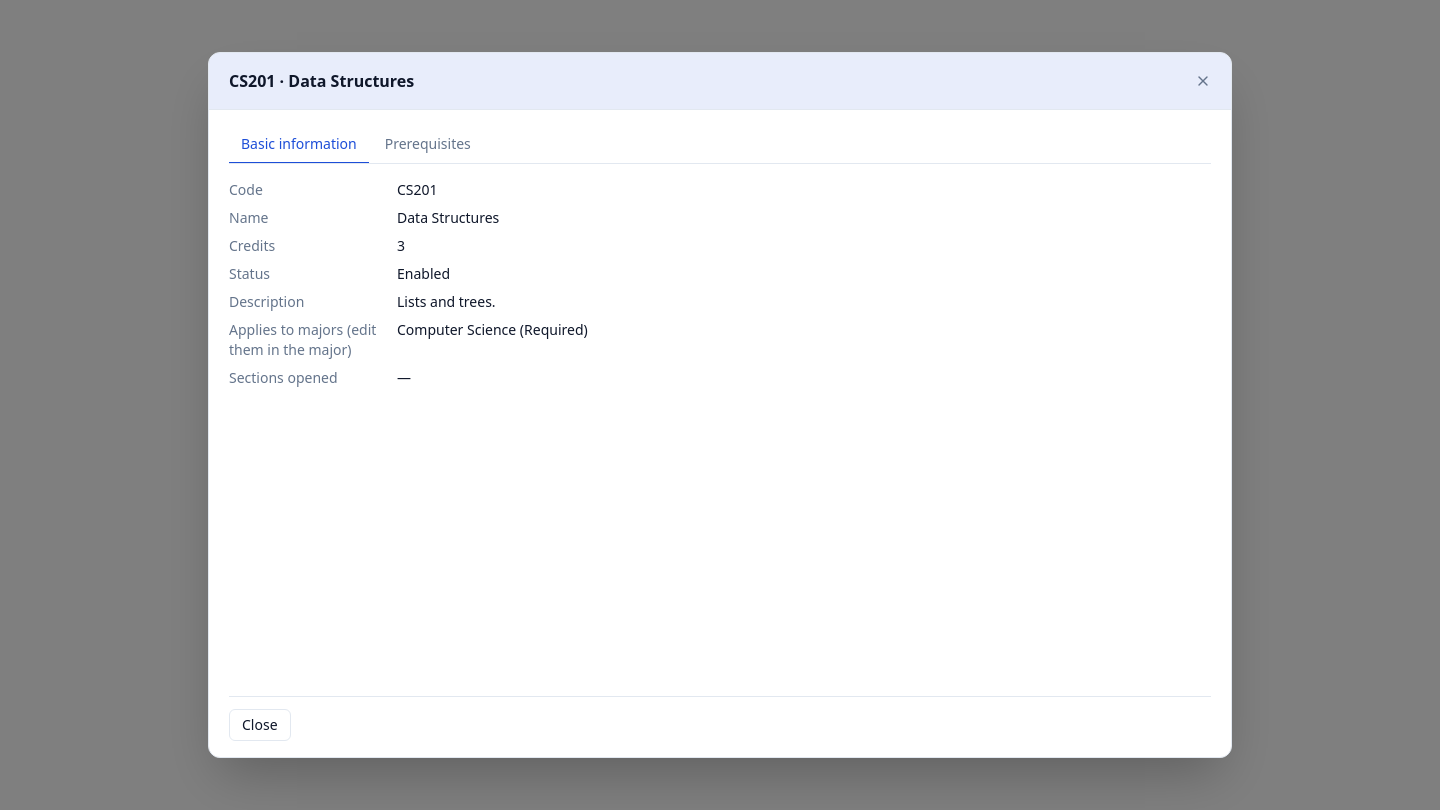
it: course dialog › details are read-only: labels only, no inputs or add/remove, prerequisites listed
The width and height of the screenshot is (1440, 810).
expect the text "Lists and trees." is shown: met, box left=397, top=292, right=496, bottom=311
Click the tab "Prerequisites".
click(428, 145)  # box left=373, top=126, right=483, bottom=164
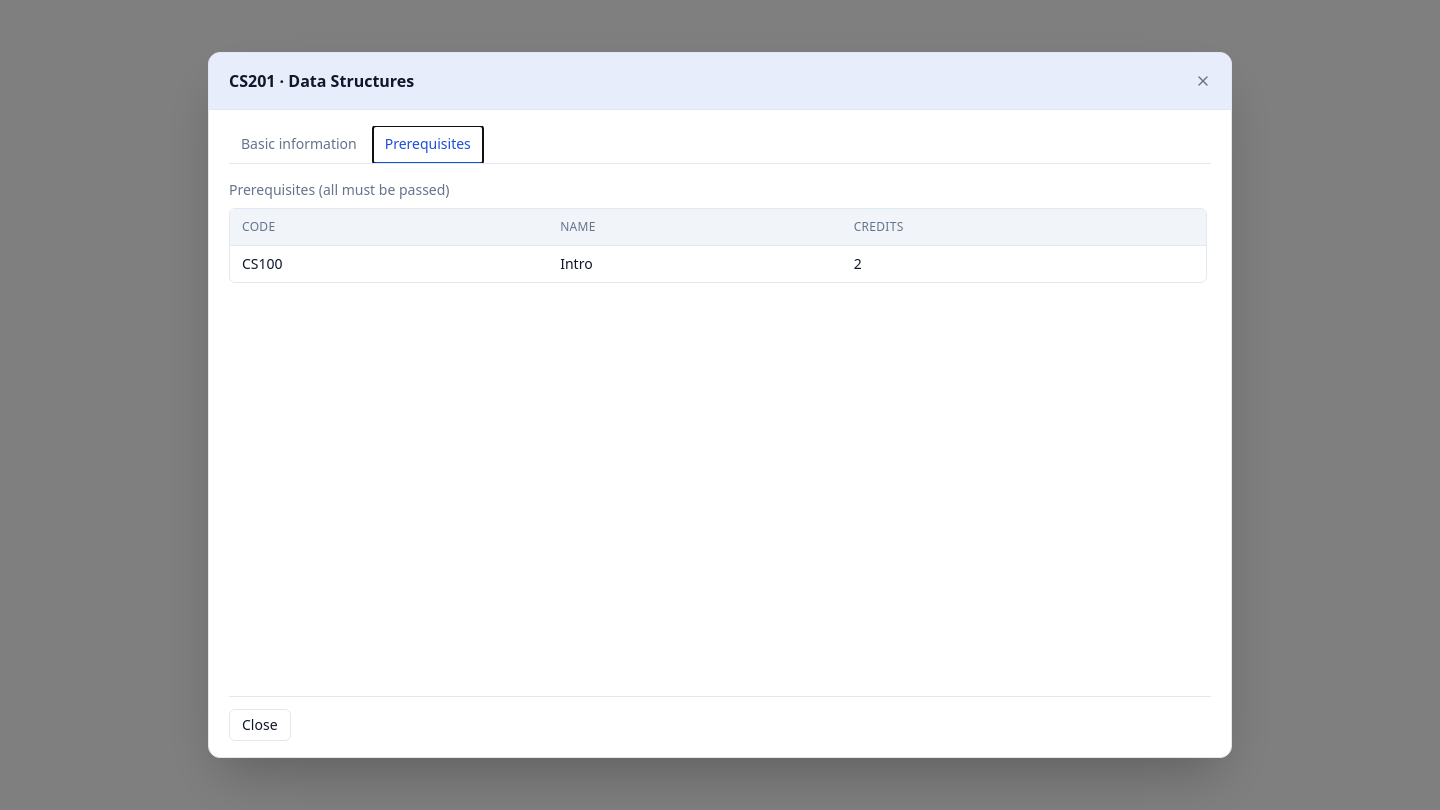
expect the text "CS100" is shown: met, box left=230, top=245, right=548, bottom=282
